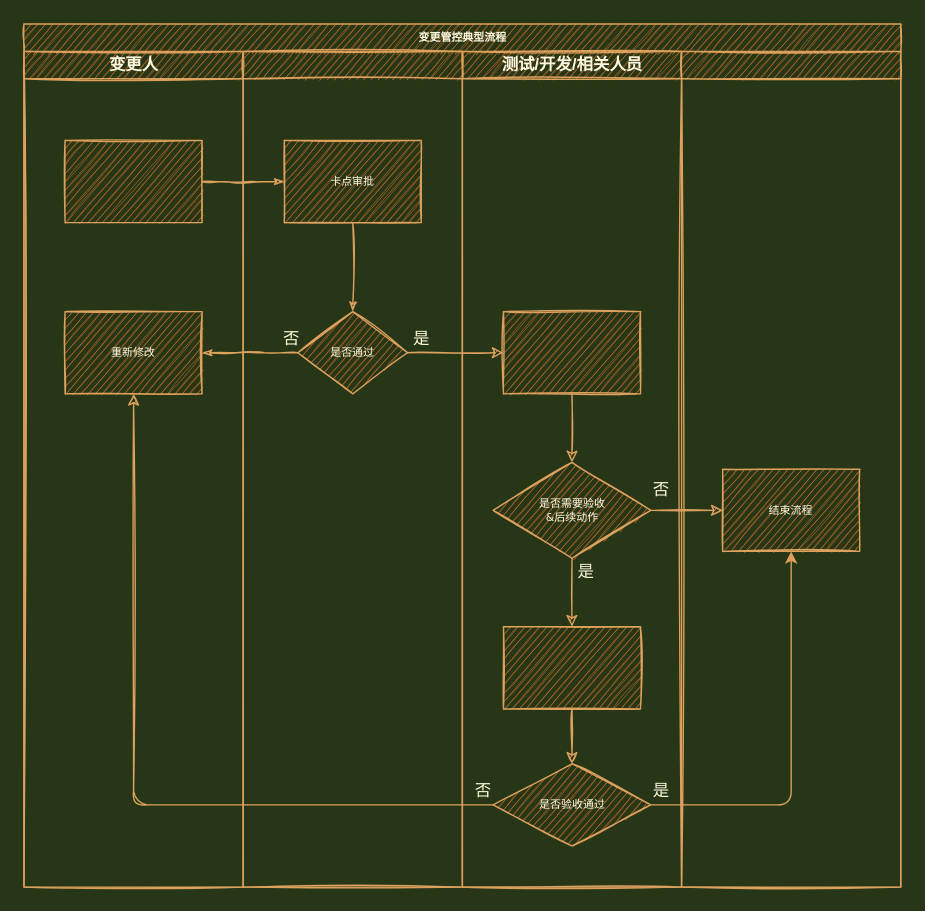
This 925x911 diagram has some shape labels left out. The shapes that lost their labels are listed below. From the top down, each one's box as (x1, y1, x2, y2) in pixels, then its label:
(64, 139, 202, 223): 发生变更
(502, 310, 640, 394): 发送群通知
(242, 50, 462, 887): 审批人
(502, 625, 640, 709): 创建项目任务
